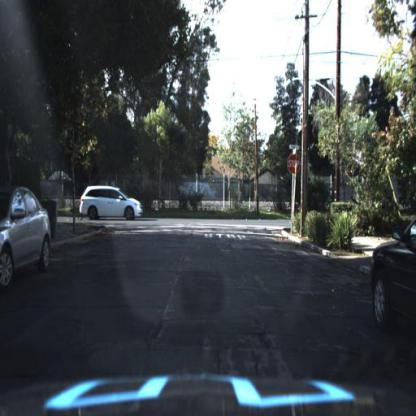car: (369, 207, 416, 347), (2, 185, 53, 296), (62, 182, 157, 230), (76, 186, 146, 220)
